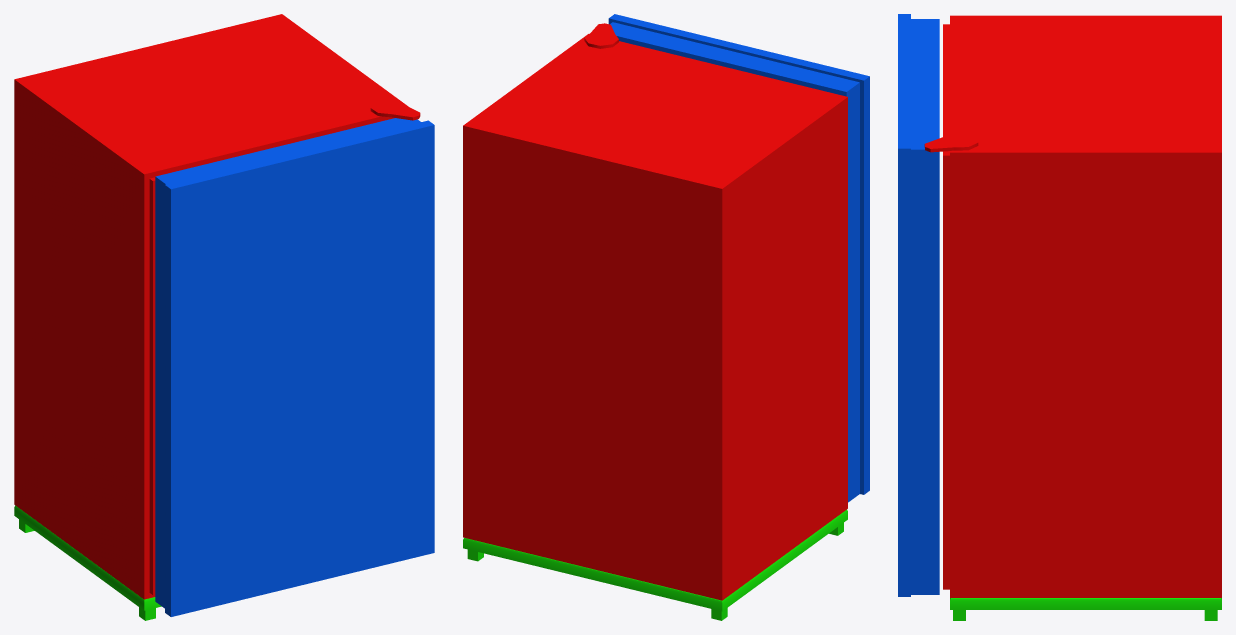
The model's file is hospital_fnt_refri_peque1.fbx.
The picture shows the model from 3 angles, left to right: view 1: azimuth 30°, elevation 25°; view 2: azimuth 150°, elevation 25°; view 3: azimuth 270°, elevation 25°; orthographic projection. The views are drawn at different scales.
Visible parts, largest first — view 1: hospital_fnt_refri_peque1; view 2: hospital_fnt_refri_peque1; view 3: hospital_fnt_refri_peque1.
Part boxes in pixels (<box>): hospital_fnt_refri_peque1: <box>14,14,434,620</box>; hospital_fnt_refri_peque1: <box>463,14,869,620</box>; hospital_fnt_refri_peque1: <box>898,14,1221,620</box>.
Size of the model in its own units: 50 by 80.56 by 50.
